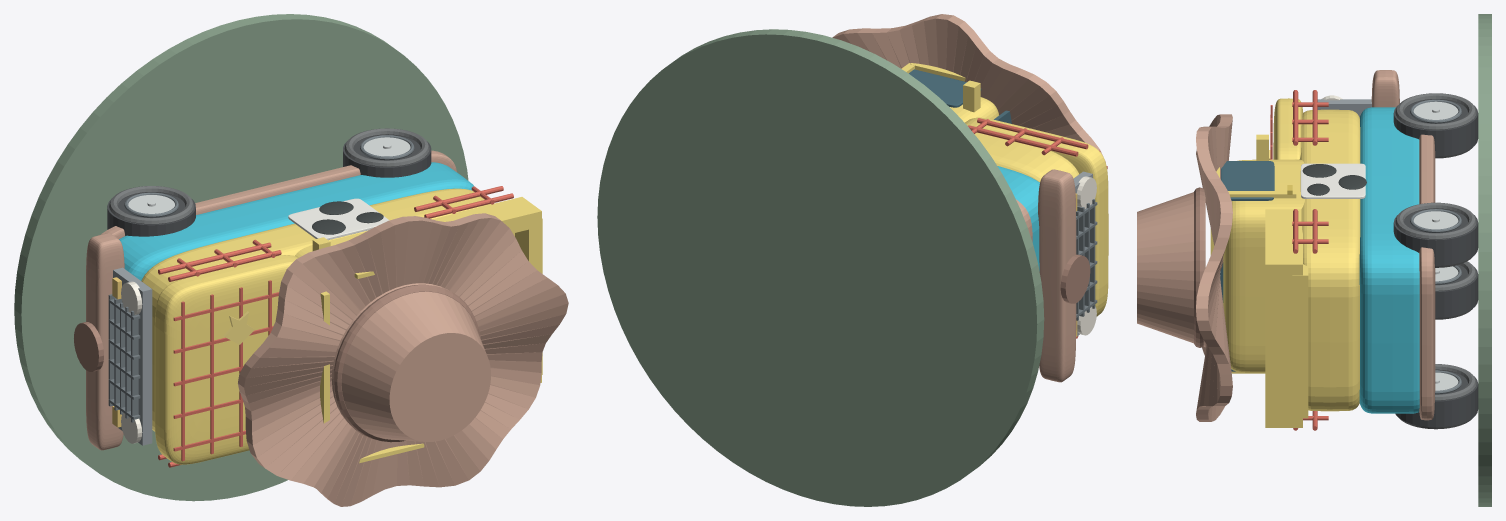
Rendered from cowboy_pickup.glb.
3 views of the same model, side by side, from view 1: azimuth 30°, elevation 25°; view 2: azimuth 150°, elevation 25°; view 3: azimuth 270°, elevation 25° (orthographic). The views are drawn at different scales.
Visible parts, largest first — view 1: display_base__platform, hat__brown, body__yellow, body__blue, body__brown, body__red_dark, body__steel_dark, body__steel, hat__brown_dark, body__white, front_L__tire, rear_L__tire (+7 smaller); view 2: display_base__platform, hat__brown, body__yellow, body__brown, body__steel_dark, body__red_dark, body__blue, body__glass_dark, body__brown_dark, body__light; view 3: body__yellow, body__blue, hat__brown, display_base__platform, body__brown, body__red_dark, rear_L__tire, front_L__tire, body__glass_dark, rear_R__tire, body__white, front_R__tire (+11 smaller).
Boxes of the visible parts, bbox=[...] form: display_base__platform: bbox=[14, 14, 468, 501]; hat__brown: bbox=[238, 213, 568, 506]; body__yellow: bbox=[141, 188, 542, 464]; body__blue: bbox=[119, 162, 473, 280]; body__brown: bbox=[86, 150, 456, 450]; body__red_dark: bbox=[158, 186, 513, 467]; body__steel_dark: bbox=[108, 294, 140, 422]; body__steel: bbox=[113, 267, 152, 445]; hat__brown_dark: bbox=[333, 284, 480, 442]; body__white: bbox=[288, 198, 389, 240]; front_L__tire: bbox=[107, 192, 195, 236]; rear_L__tire: bbox=[343, 134, 431, 177]; display_base__platform: bbox=[597, 29, 1044, 506]; hat__brown: bbox=[832, 14, 1105, 162]; body__yellow: bbox=[901, 63, 1108, 316]; body__brown: bbox=[1016, 169, 1076, 382]; body__steel_dark: bbox=[1076, 199, 1097, 320]; body__red_dark: bbox=[968, 118, 1107, 338]; body__blue: bbox=[997, 166, 1039, 270]; body__glass_dark: bbox=[909, 69, 1011, 123]; body__brown_dark: bbox=[1060, 254, 1090, 303]; body__light: bbox=[1076, 176, 1096, 335]; body__yellow: bbox=[1210, 98, 1360, 427]; body__blue: bbox=[1359, 107, 1419, 413]; hat__brown: bbox=[1137, 114, 1232, 421]; display_base__platform: bbox=[1478, 14, 1491, 506]; body__brown: bbox=[1371, 70, 1435, 420]; body__red_dark: bbox=[1270, 90, 1328, 430]; rear_L__tire: bbox=[1393, 208, 1478, 265]; front_L__tire: bbox=[1393, 99, 1478, 156]; body__glass_dark: bbox=[1220, 161, 1274, 371]; rear_R__tire: bbox=[1395, 370, 1478, 427]; body__white: bbox=[1300, 163, 1365, 198]; front_R__tire: bbox=[1435, 265, 1478, 317].
Bounding box in the file's own units: 4.32 × 4.32 × 3.11.
